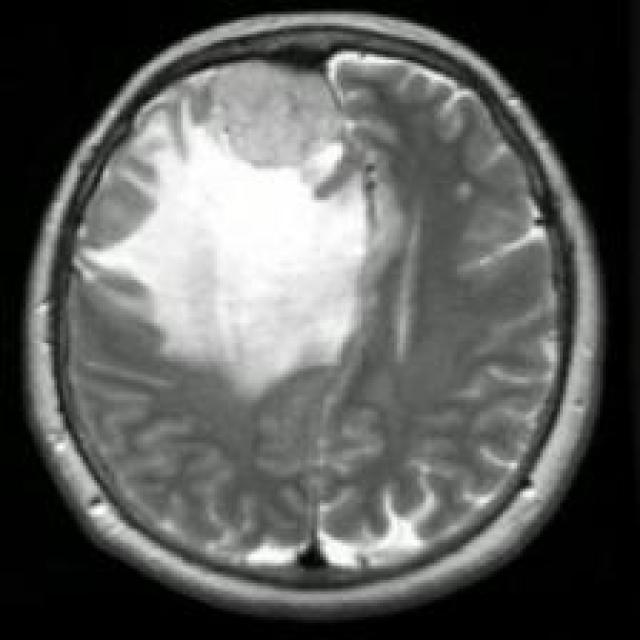Tumor: (80, 112, 371, 397)
